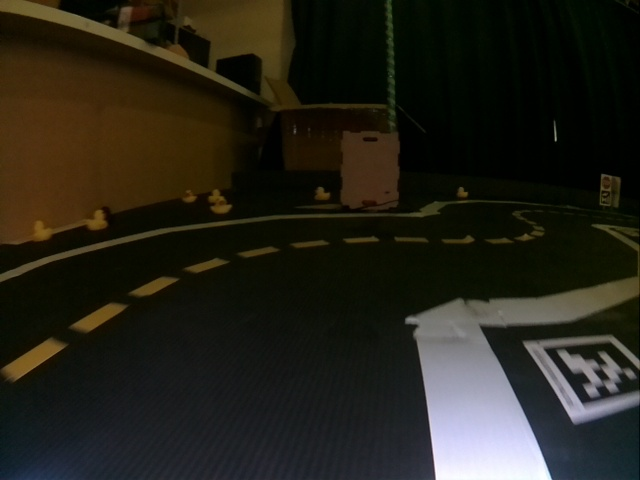Duckie: (84, 211, 108, 231), (215, 199, 230, 213), (35, 225, 49, 240), (181, 190, 197, 203), (209, 190, 224, 203), (316, 187, 329, 200), (458, 188, 467, 197)
QR code: (536, 334, 639, 415), (601, 190, 611, 205)
Stop sign: (602, 174, 612, 188)
